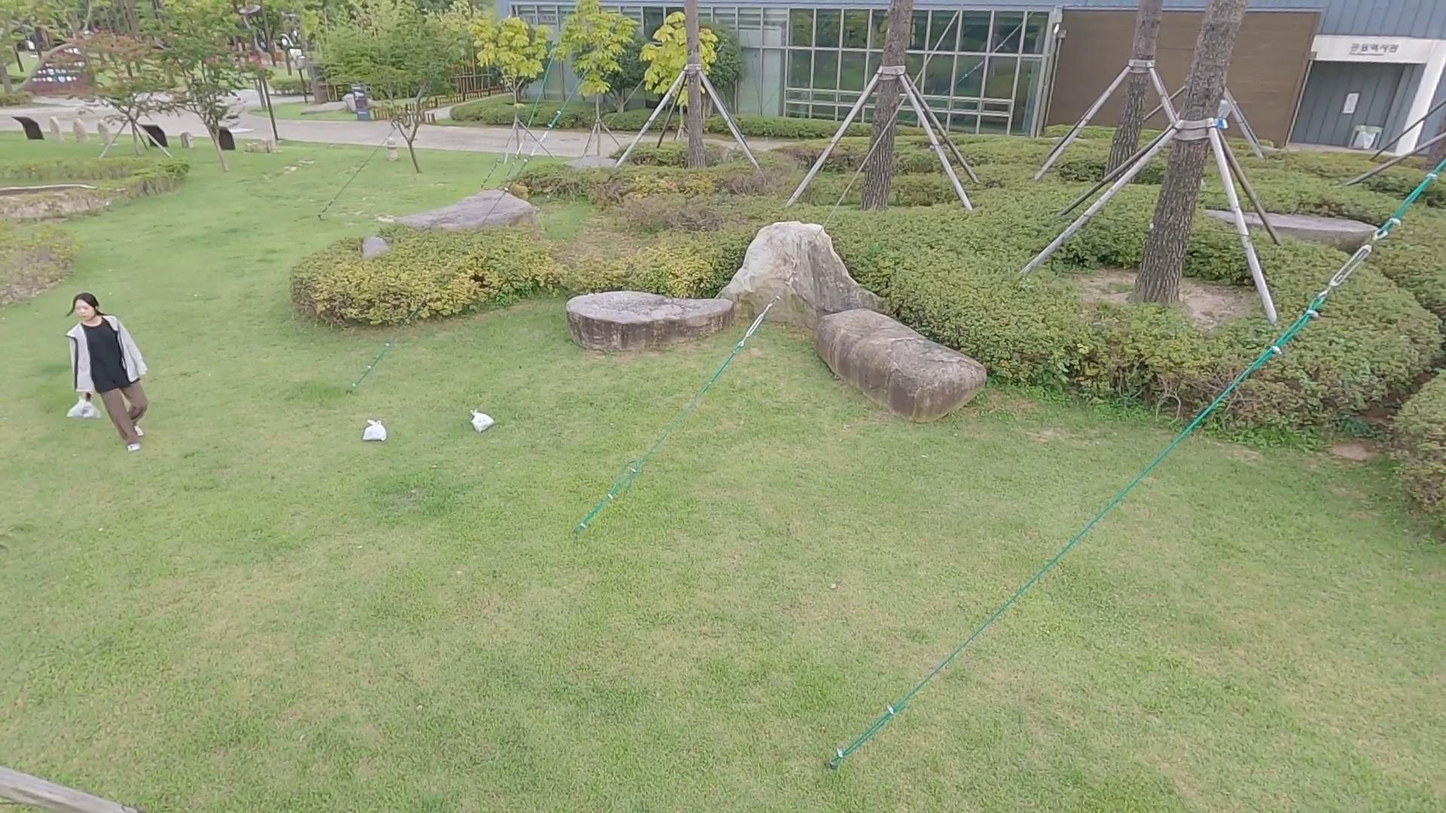person: (66, 282, 162, 457)
trash: (463, 403, 498, 446), (59, 394, 100, 428), (355, 414, 388, 451)
